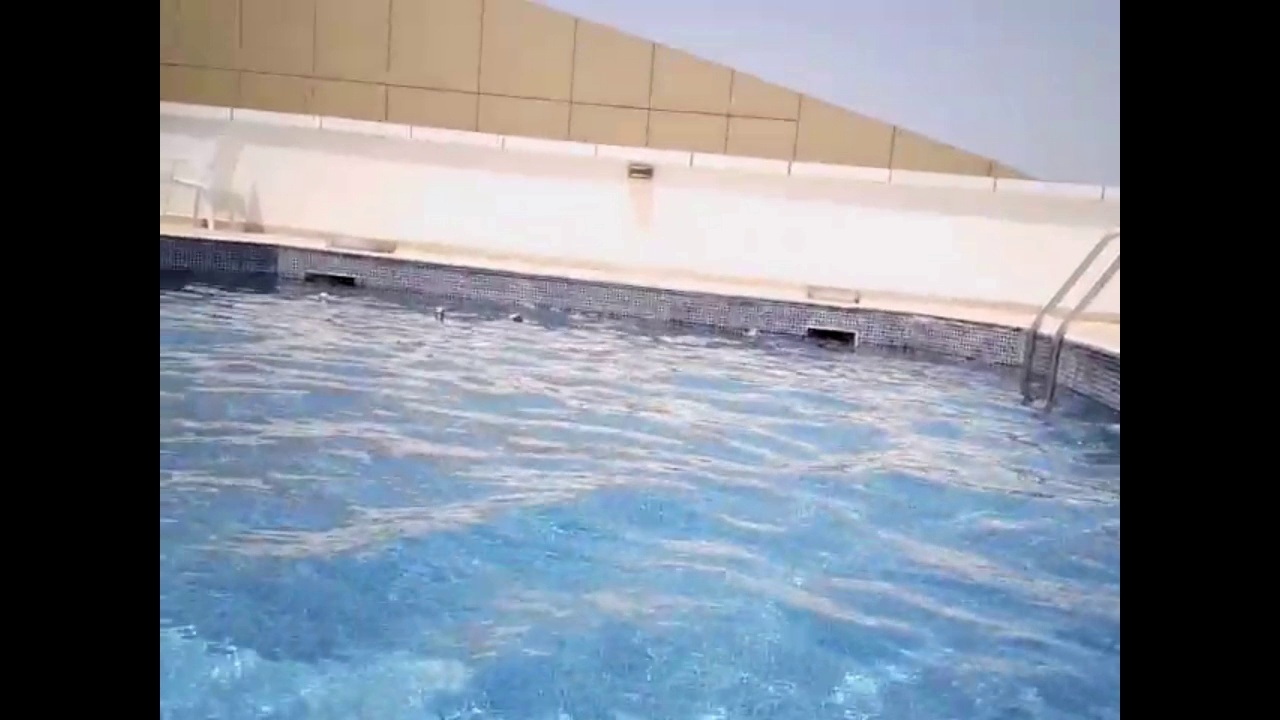debris: (425, 298, 451, 324), (501, 307, 527, 330), (740, 321, 760, 344), (314, 288, 330, 303)
